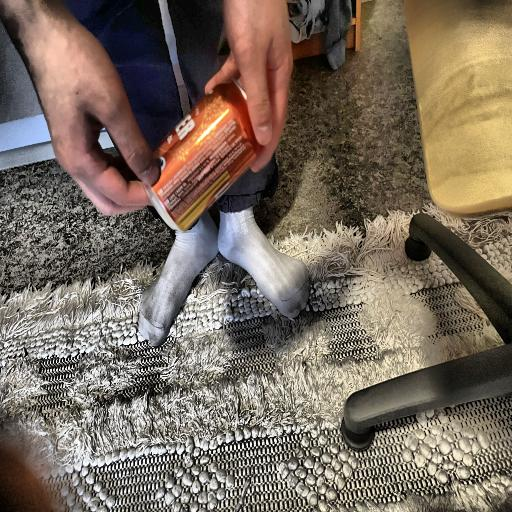coop_larger: (137, 76, 264, 238)
